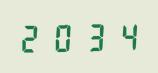four: (108, 19, 137, 51)
three: (78, 20, 107, 52)
two: (18, 21, 47, 53)
zero: (48, 20, 77, 53)
